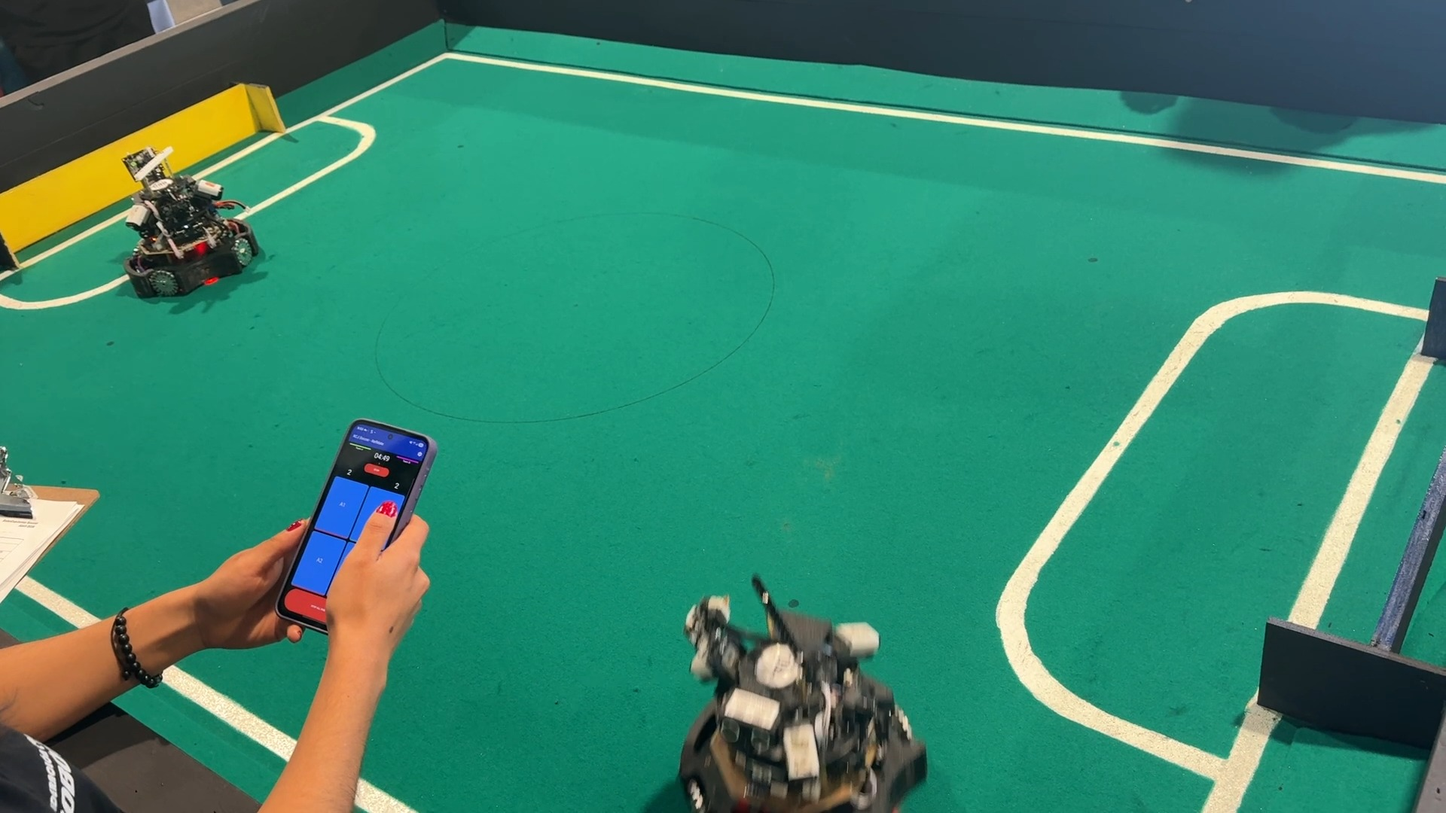Robot: (673, 567, 933, 813), (91, 141, 276, 320)
